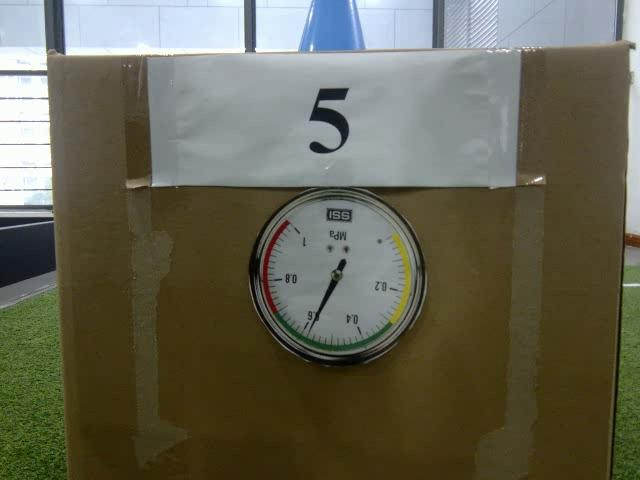5: (306, 86, 353, 156)
Dashboard: (248, 185, 432, 369)
blue_barrel: (295, 0, 367, 50)
ssi: (323, 202, 353, 225)
